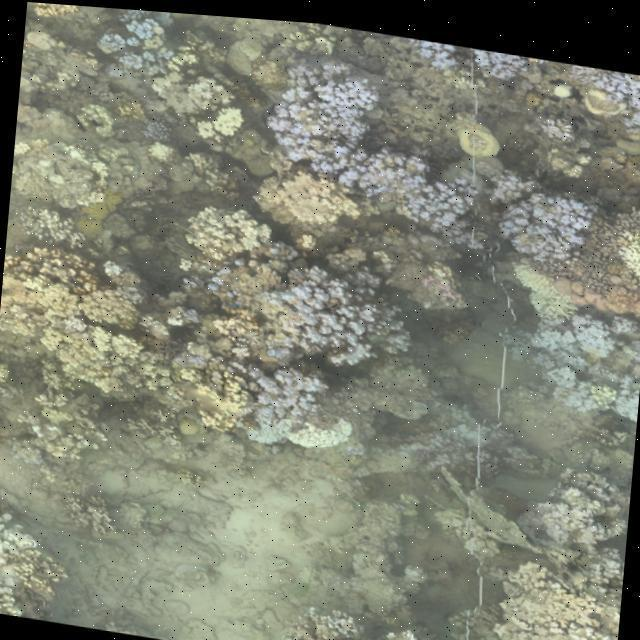Bleached Coral: (252, 51, 390, 182), (294, 244, 416, 369), (474, 539, 623, 640), (224, 346, 324, 461), (362, 140, 484, 230), (491, 163, 598, 260), (526, 286, 640, 360), (539, 336, 640, 418), (95, 5, 188, 76), (0, 506, 49, 619), (412, 32, 534, 74), (571, 54, 640, 114)
